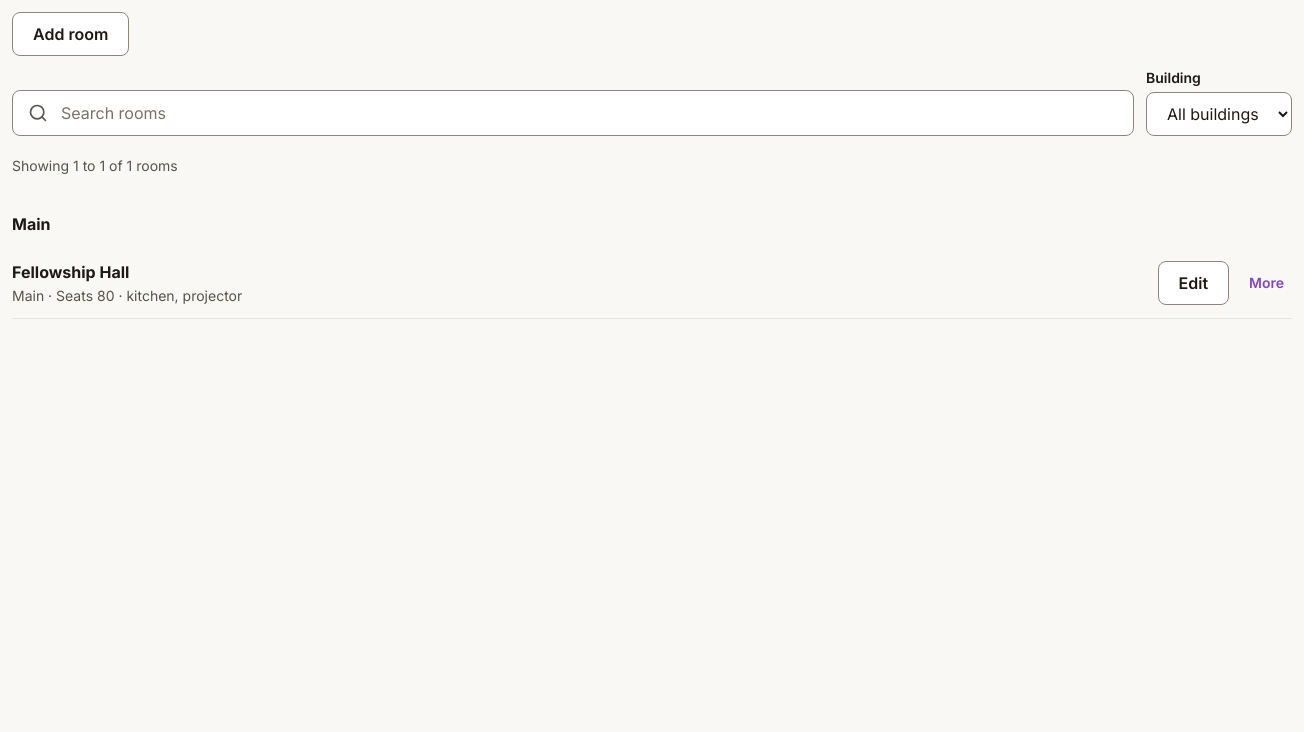
Test: adding a room › shows every field with its hint
Click the button "Add room" at coordinates (71, 34), box [12,12,129,56]
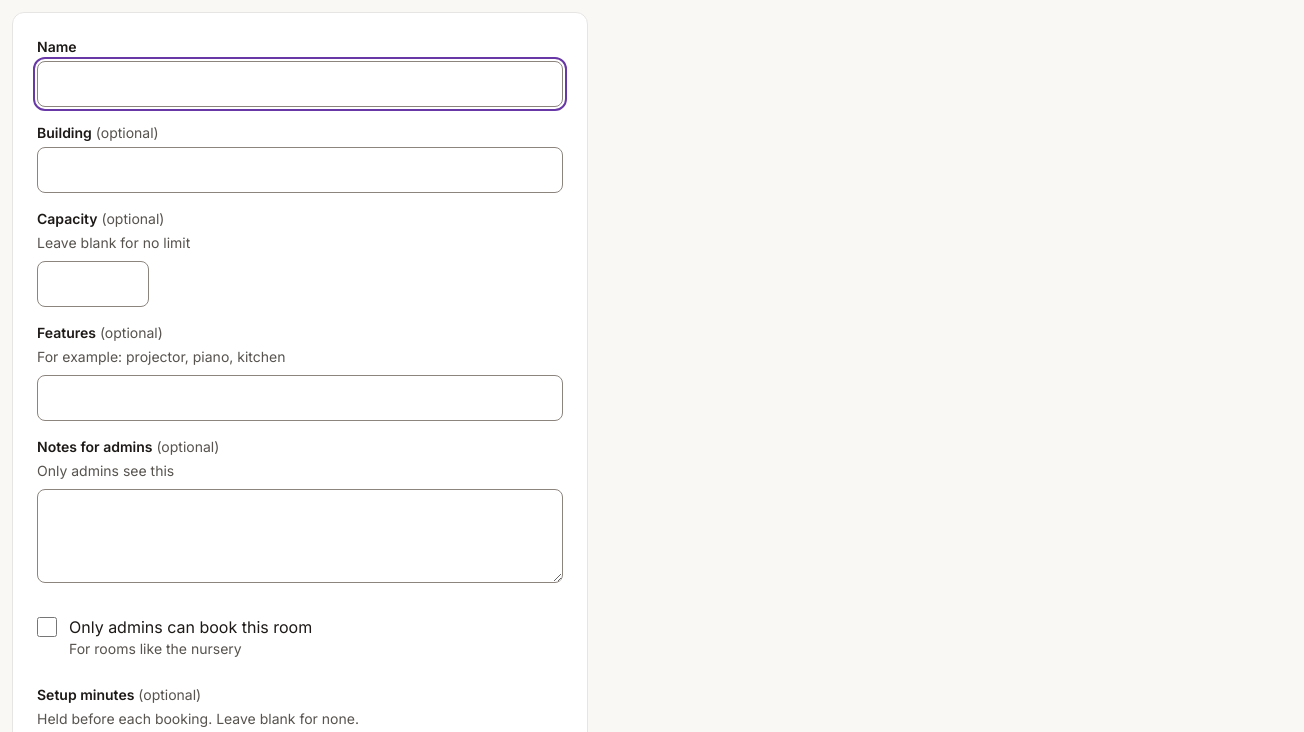
Now the field labelled "Building (optional)" is shown, box [37,147,563,193]
Now the checkbox labelled "Only admins can book this room For rooms like the nursery" is shown, box [37,617,57,637]
Now the text "For rooms like the nursery" is shown, box [69,640,242,657]
